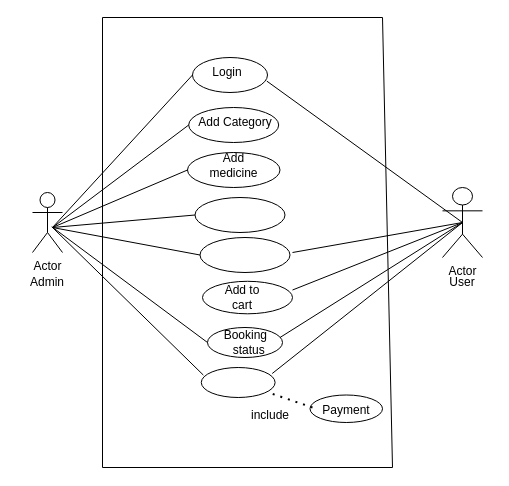
Image size: 509x486. Some labels were removed from this diagram. The shapes that lost their labels are listed below. From the top down, each one's box as (x1, y1, x2, y2) in pixels, then its label:
(194, 196, 285, 232): Manage order
(199, 236, 290, 272): View Item
(200, 366, 275, 398): Order
